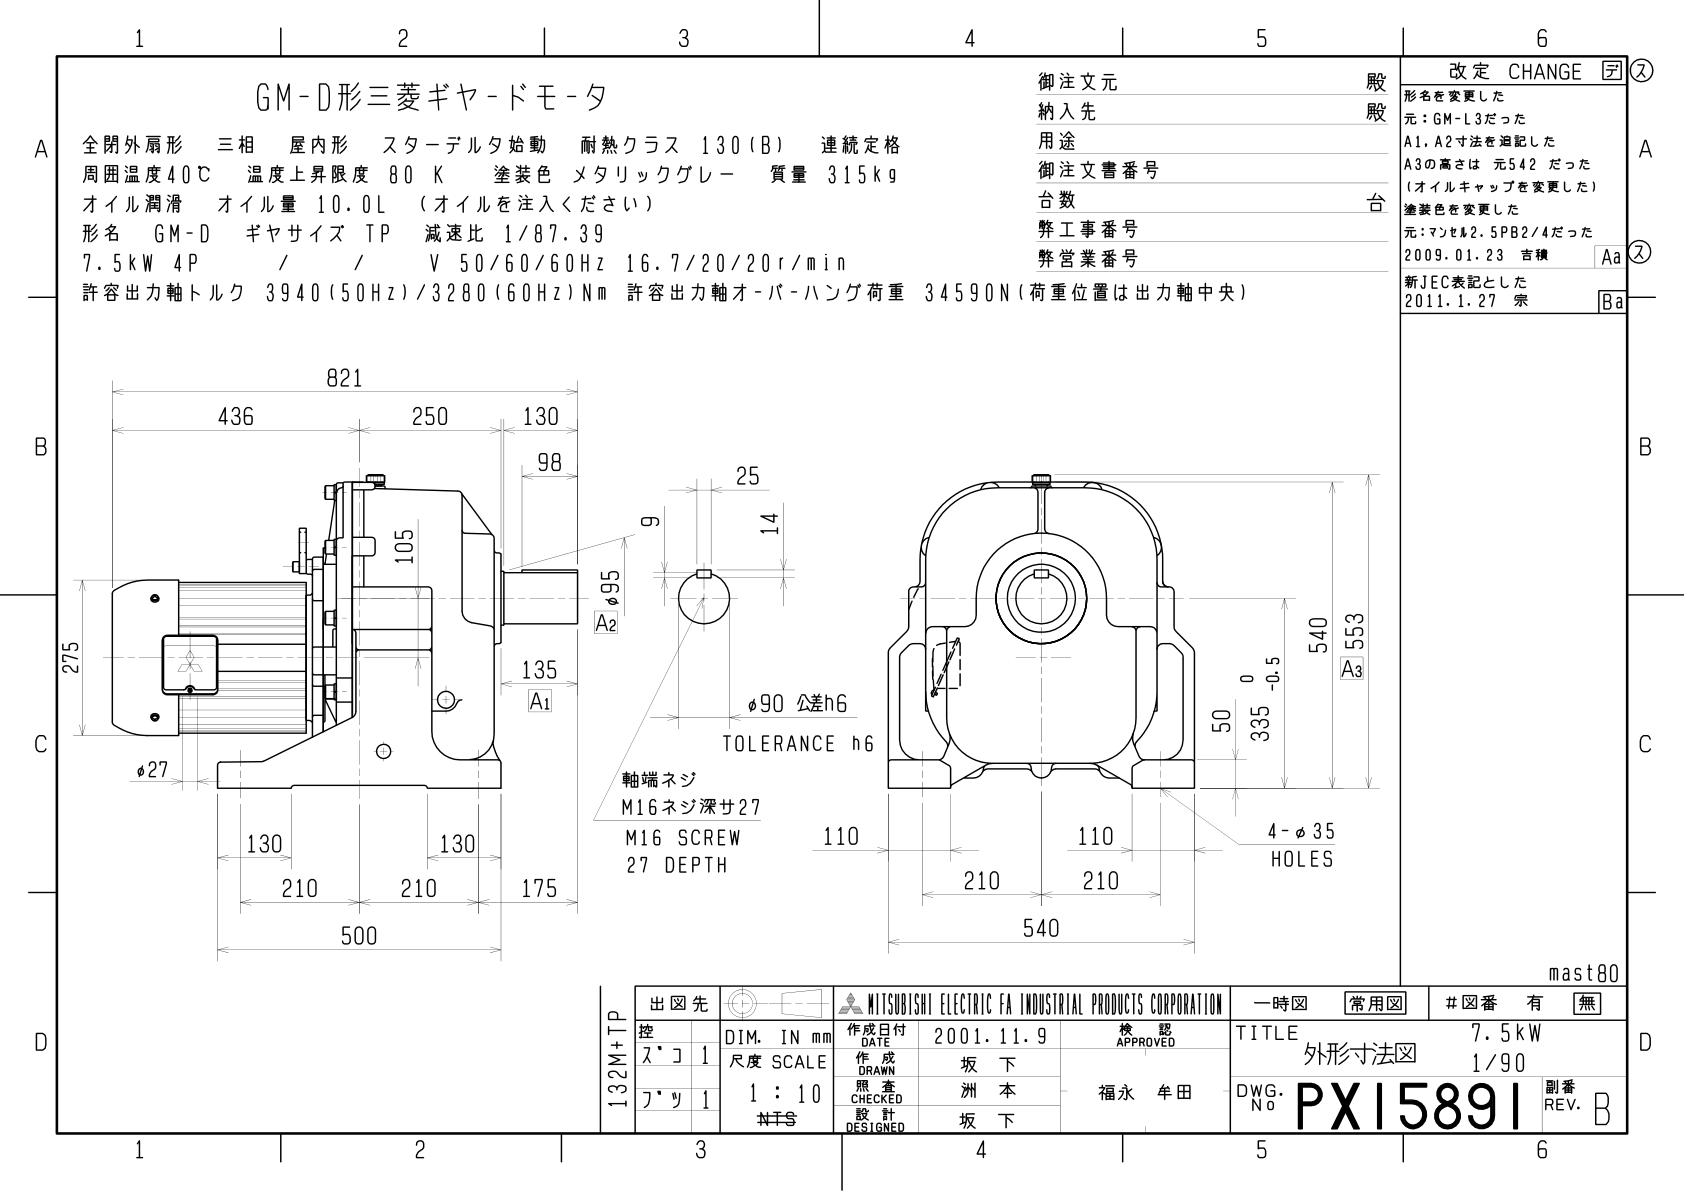GM_D_屋内＿三相_脚: (61, 335, 1386, 971)
